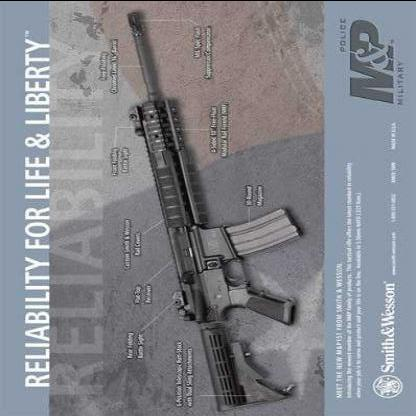rifle: (99, 19, 296, 416)
